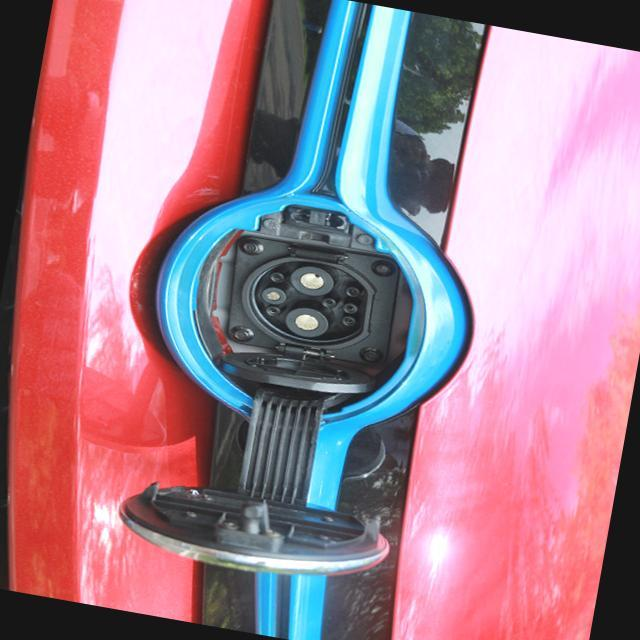GB-T: (220, 239, 382, 366)
